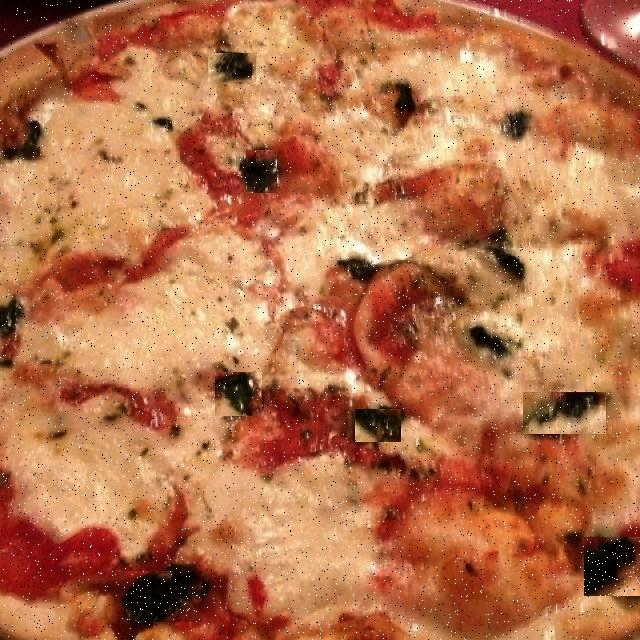Basil: (124, 572, 202, 624), (523, 392, 606, 434), (584, 538, 640, 598), (215, 372, 262, 416), (355, 409, 401, 444), (208, 53, 256, 82), (246, 150, 277, 193), (489, 246, 523, 283)
Pizza: (0, 0, 640, 640)
